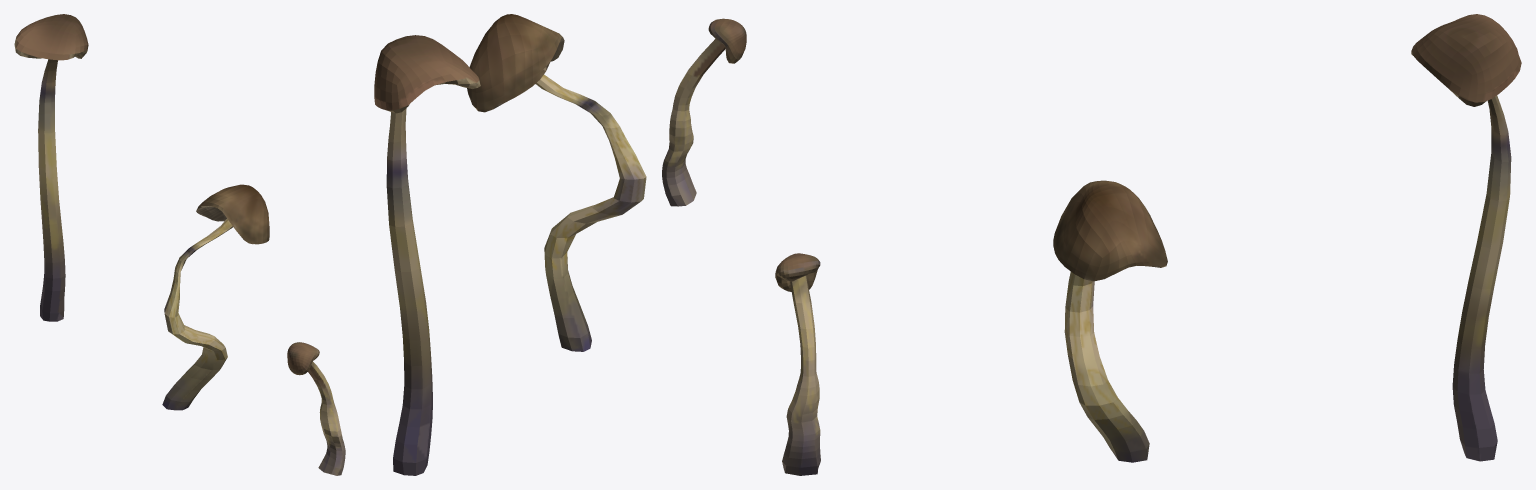
The model's file is libertycaps.fbx.
The picture shows the model from 3 angles, left to right: view 1: azimuth 30°, elevation 25°; view 2: azimuth 150°, elevation 25°; view 3: azimuth 270°, elevation 25°; orthographic projection. The views are drawn at different scales.
Visible parts, largest first — view 1: 1_stem, 2_stem, 2_cap, 1_cap, 3_stem, 3_cap; view 2: 1_stem, 2_stem, 2_cap, 1_cap, 3_stem, 3_cap; view 3: 1_stem, 2_cap, 1_cap, 2_stem, 3_stem, 3_cap.
Boxes of the visible parts, x1=… form: 1_stem: x1=38, y1=59, x2=65, y2=321; 2_stem: x1=162, y1=218, x2=232, y2=410; 2_cap: x1=196, y1=184, x2=269, y2=244; 1_cap: x1=14, y1=14, x2=88, y2=60; 3_stem: x1=308, y1=362, x2=345, y2=475; 3_cap: x1=287, y1=342, x2=319, y2=375; 1_stem: x1=386, y1=108, x2=432, y2=475; 2_stem: x1=536, y1=74, x2=646, y2=351; 2_cap: x1=467, y1=14, x2=564, y2=112; 1_cap: x1=374, y1=35, x2=480, y2=113; 3_stem: x1=662, y1=39, x2=725, y2=206; 3_cap: x1=708, y1=18, x2=746, y2=63; 1_stem: x1=1452, y1=95, x2=1511, y2=461; 2_cap: x1=1053, y1=180, x2=1167, y2=281; 1_cap: x1=1411, y1=14, x2=1521, y2=106; 2_stem: x1=1064, y1=271, x2=1149, y2=462; 3_stem: x1=782, y1=275, x2=820, y2=475; 3_cap: x1=775, y1=253, x2=820, y2=291.
Bounding box in the file's own units: 0.0934 × 0.2161 × 0.3358.
